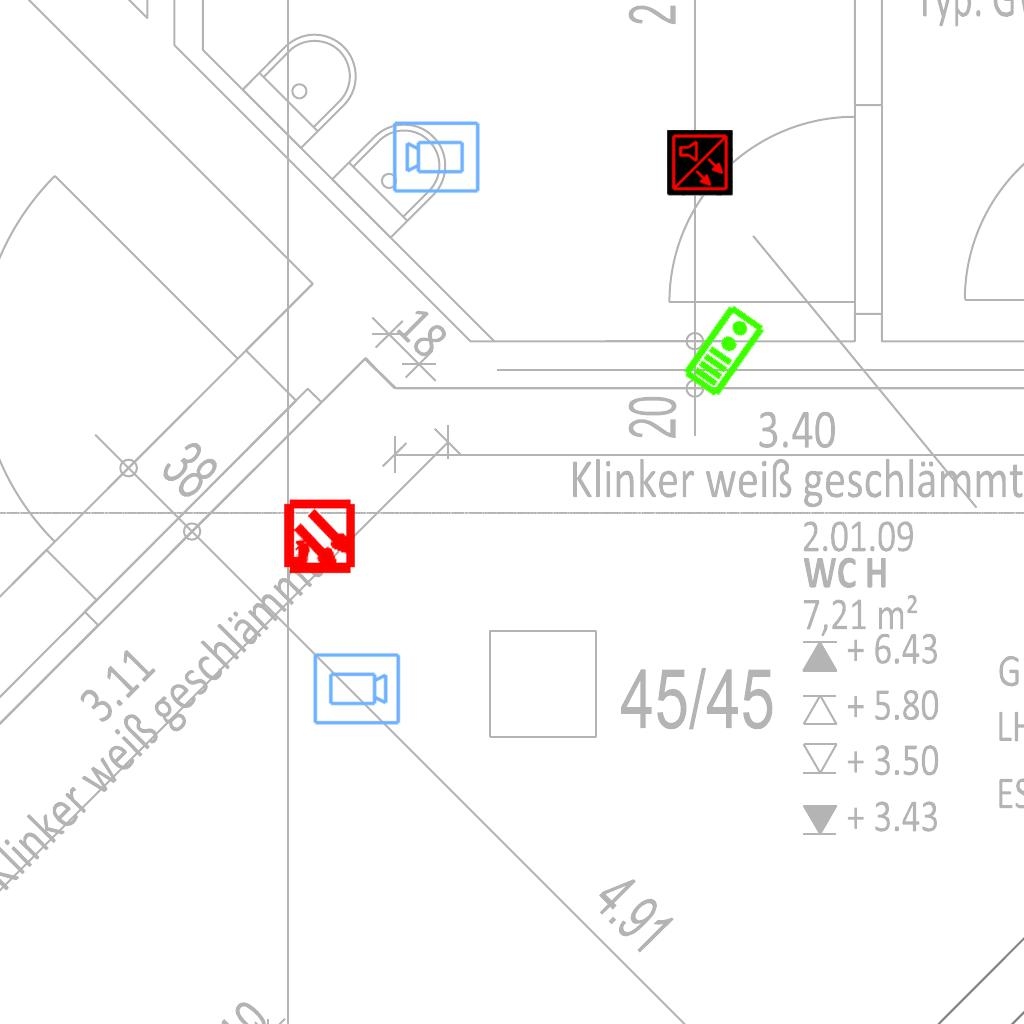Gegensprechanlage_mit_Video: (679, 300, 768, 400)
KFO_Kamera_mit_Festobjektiv: (391, 118, 482, 195), (311, 651, 402, 728)
OKW_Multisensormelder_(Kombination_optischer_Rauch-Kahlenmonoxid_Waerme-Melder): (667, 130, 733, 196)
OT_Multisensormelder_(Kombination_RMO_WMD): (263, 482, 376, 595)
